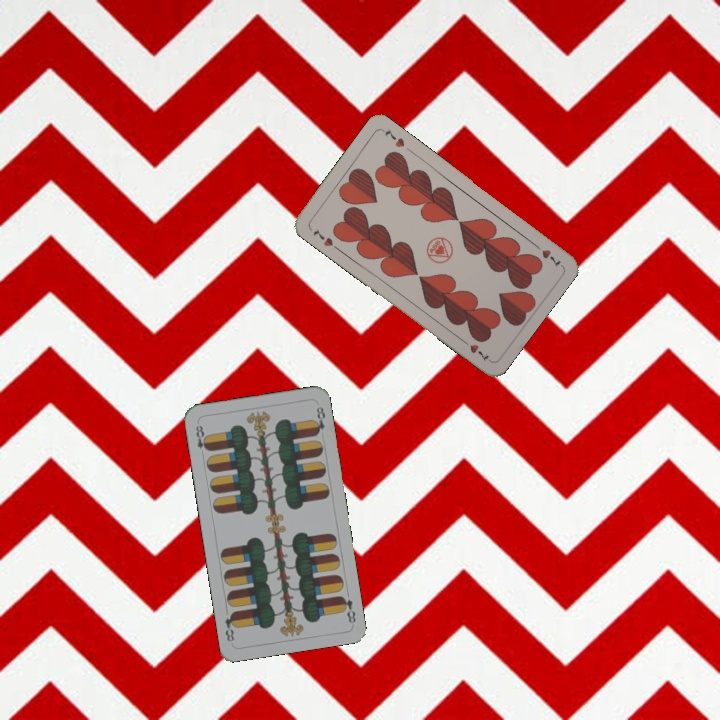E8: (336, 592, 358, 626), (192, 421, 211, 453)
H7: (530, 239, 564, 270), (309, 224, 336, 249)
